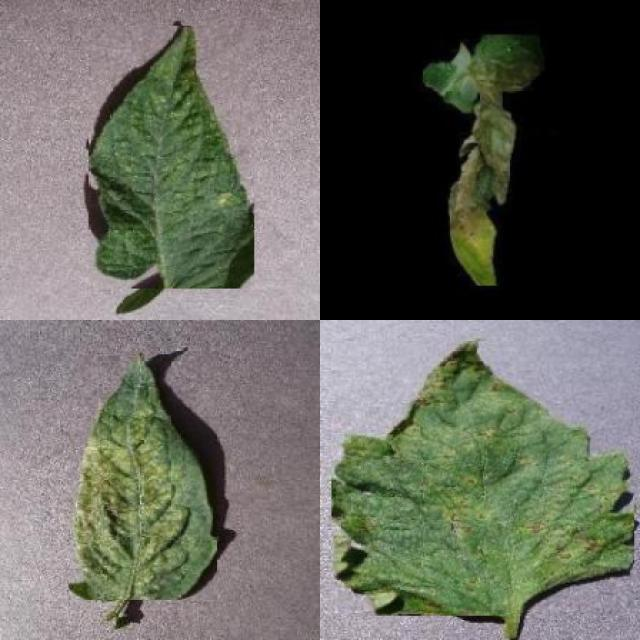Late Blight: (423, 34, 540, 286)
Septoria: (332, 340, 635, 616)
Spider Mites: (89, 25, 254, 288), (69, 354, 217, 600)
